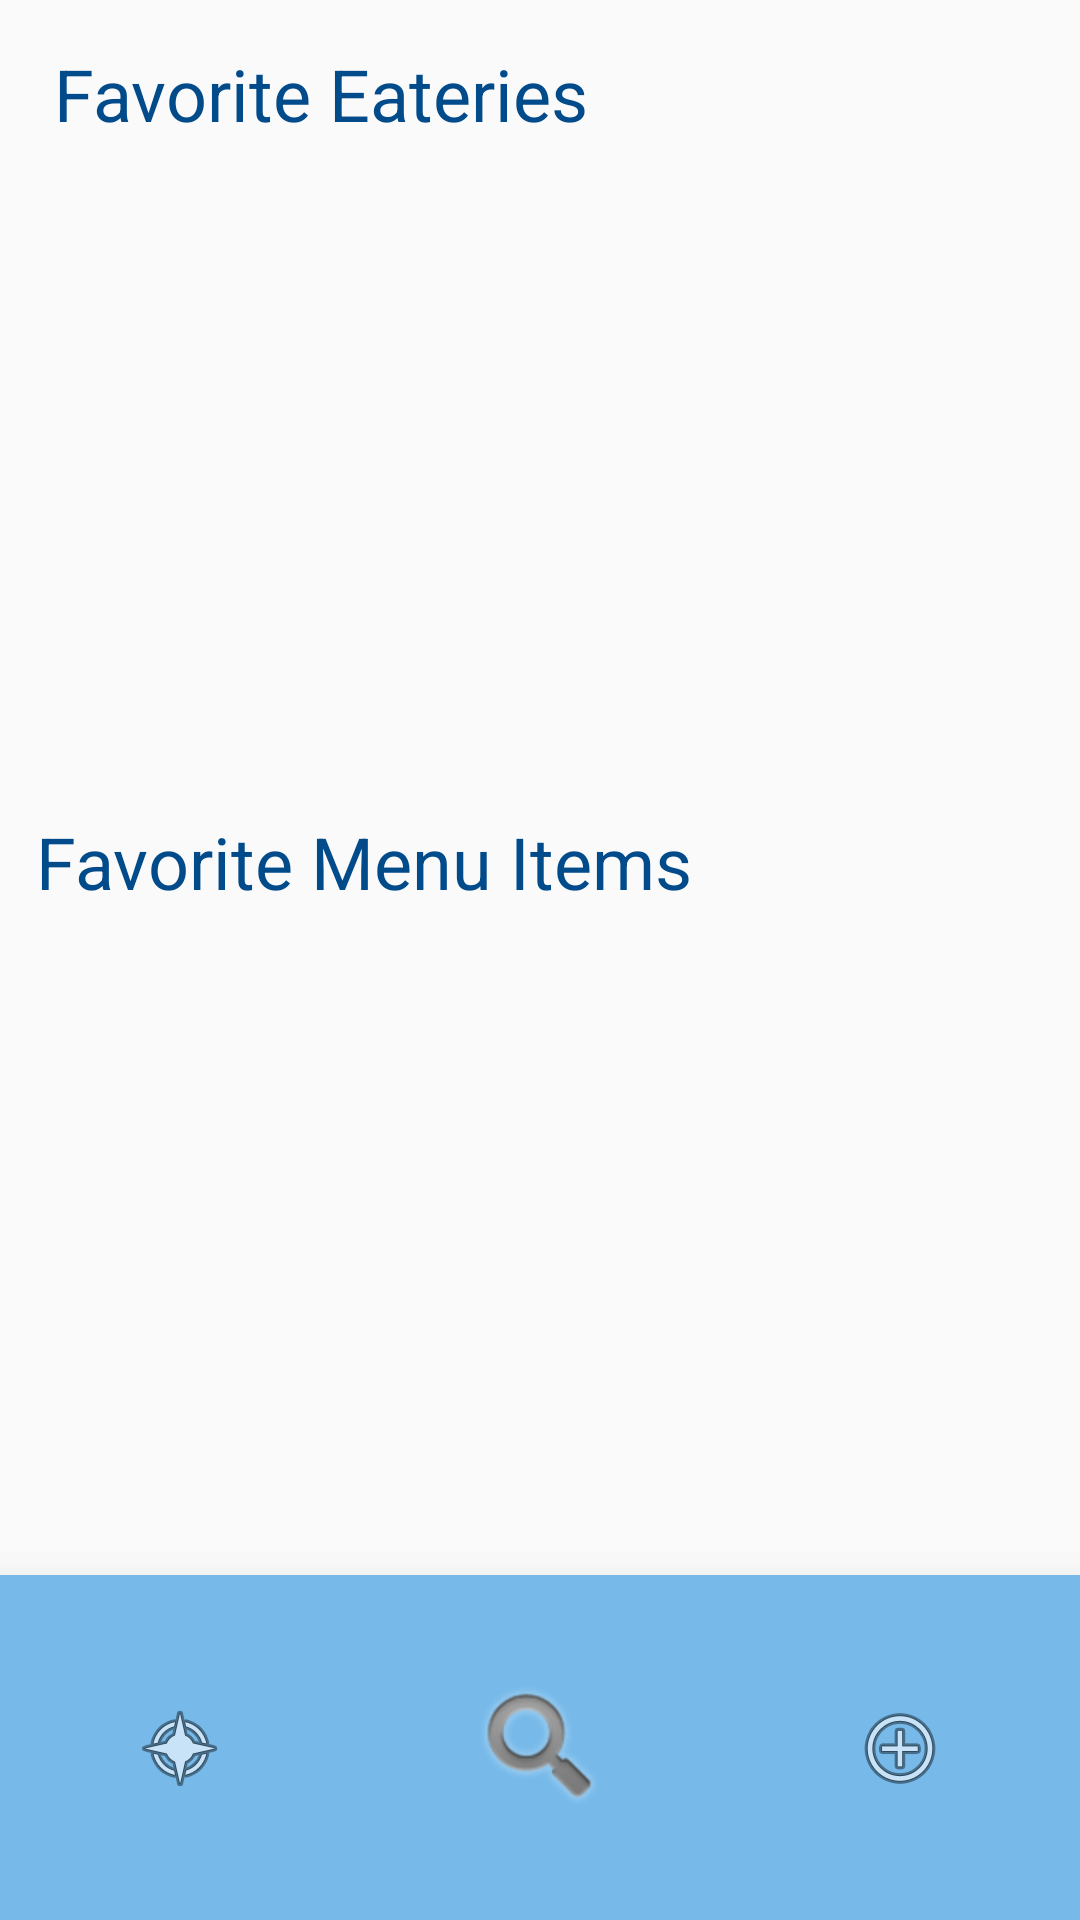

Icon bounding boxes for this 1080×1920 phone screenshot, format {"left": x1, "top": y1, "right": x2, "bottom": y2}:
add: {"left": 864, "top": 1713, "right": 936, "bottom": 1784}
compass: {"left": 142, "top": 1711, "right": 218, "bottom": 1786}
search category: {"left": 487, "top": 1694, "right": 591, "bottom": 1798}
